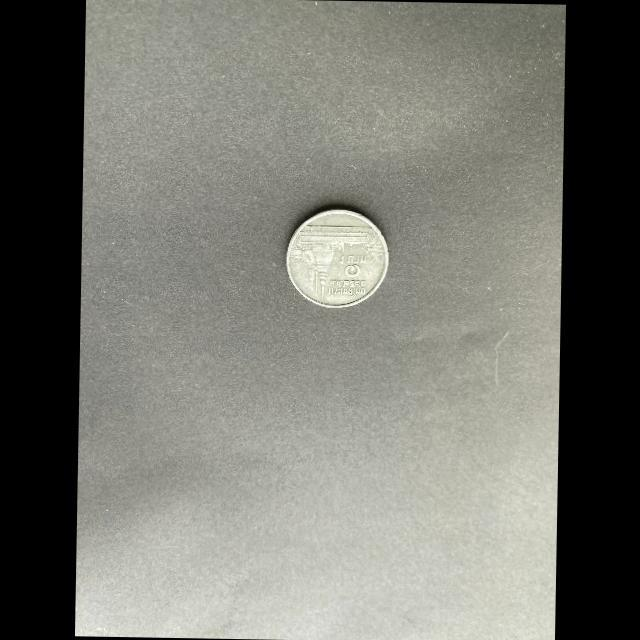1 Bath: (286, 206, 392, 313)
